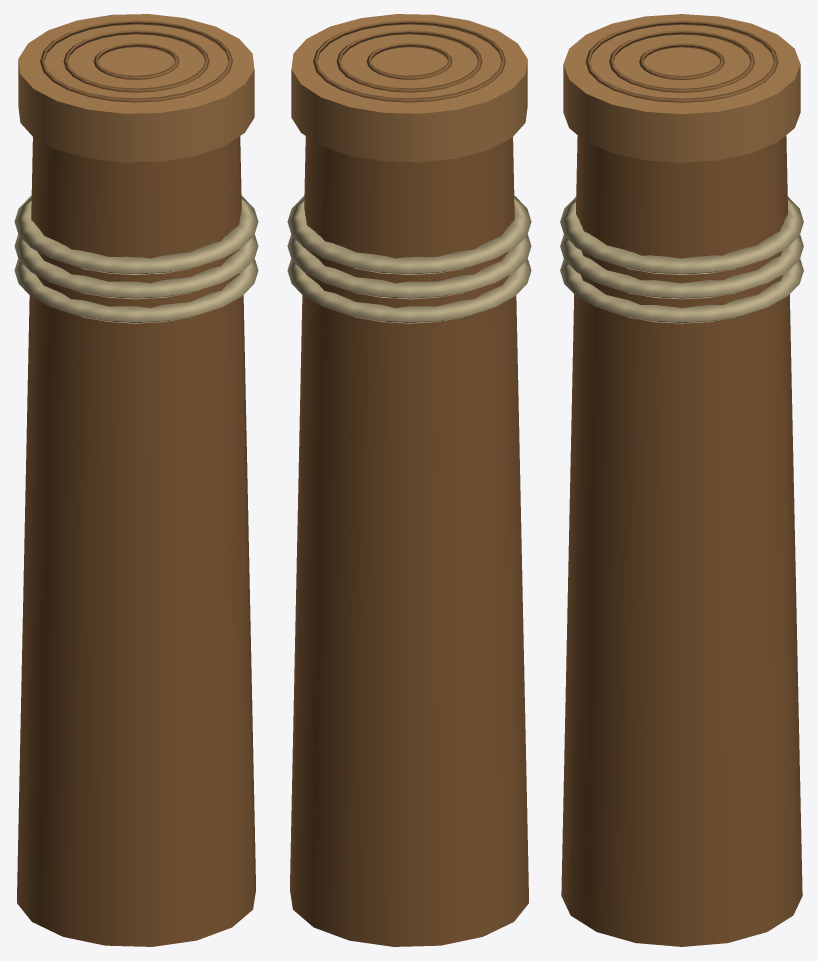
Rendered from dock_post.glb.
3 renders of one model, left to right at view 1: azimuth 30°, elevation 25°; view 2: azimuth 150°, elevation 25°; view 3: azimuth 270°, elevation 25°, orthographic.
Size of the model in its own units: 0.364 by 1.38 by 0.364.
